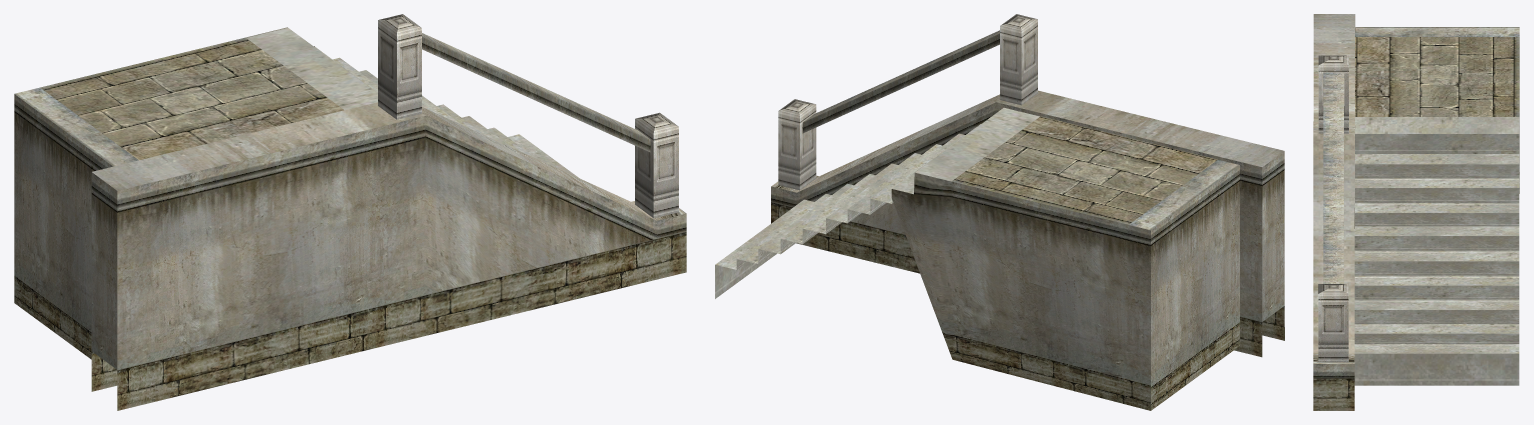
The model's file is rd_sta4.glb.
The picture shows the model from 3 angles, left to right: view 1: azimuth 30°, elevation 25°; view 2: azimuth 150°, elevation 25°; view 3: azimuth 270°, elevation 25°; orthographic projection. The views are drawn at different scales.
Visible parts, largest first — view 1: rd_sta4-col; view 2: rd_sta4-col; view 3: rd_sta4-col.
Boxes of the visible parts, x1,y1,x2,y2 form: rd_sta4-col: (14,14,686,410); rd_sta4-col: (715,14,1284,410); rd_sta4-col: (1313,14,1519,410).
Size of the model in its own units: 8.86 by 4.61 by 3.49.
4 materials, 4 textured.
